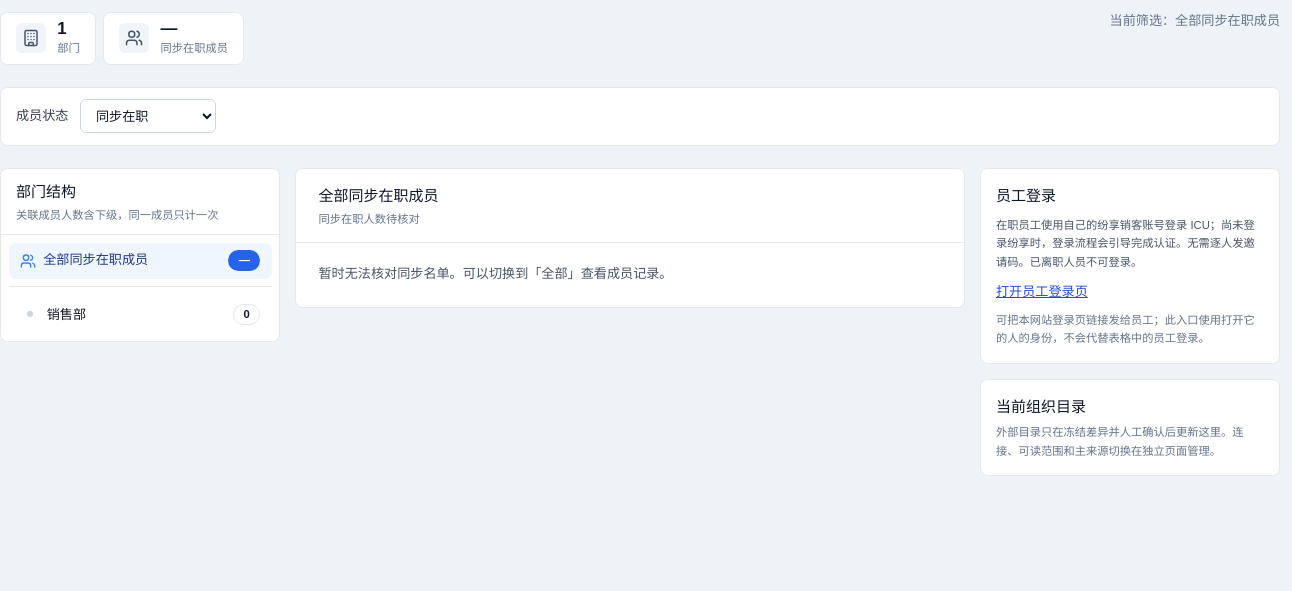
it: keeps organization filters in the member list without embedding shipping settings
Click the button "销售部 0" at (66, 315), box 27,304 -> 260,325
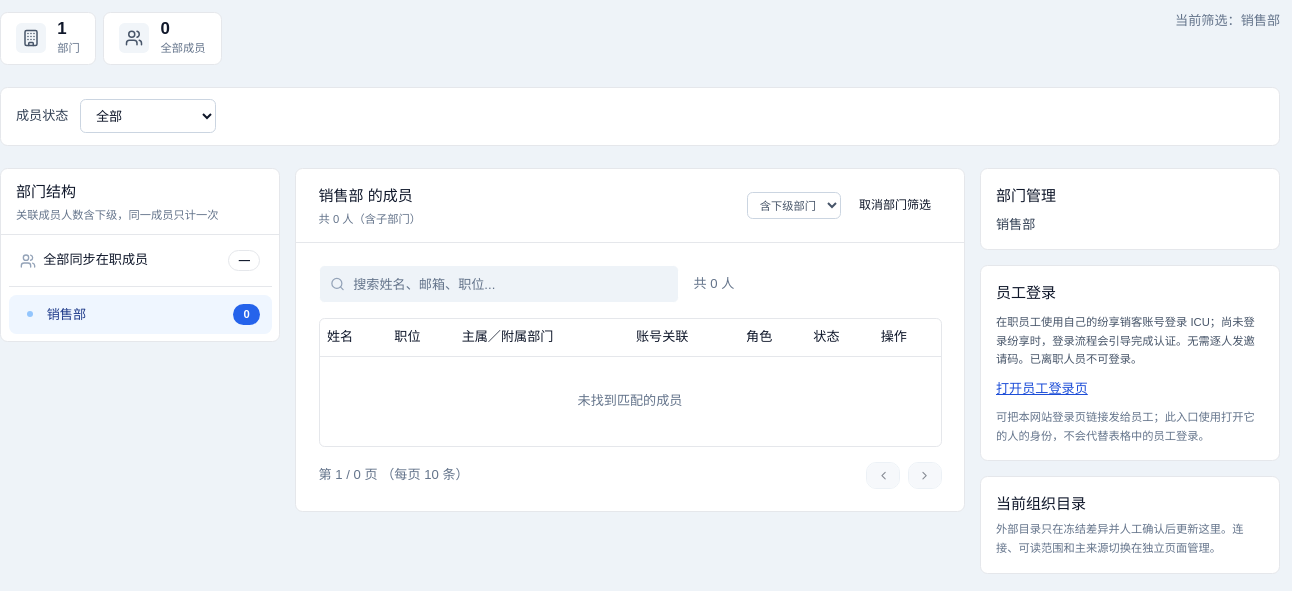
Result: the heading "销售部 的成员" is shown at 318,184 -> 421,208
